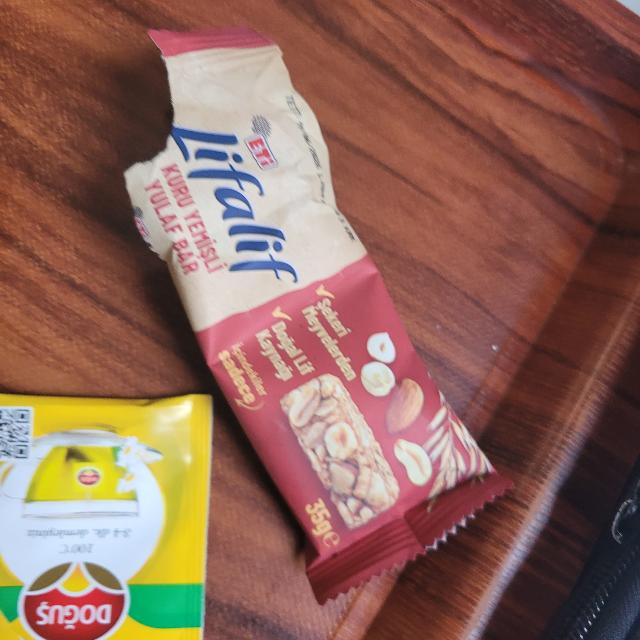Plastik: (121, 31, 514, 605), (0, 388, 214, 640)
